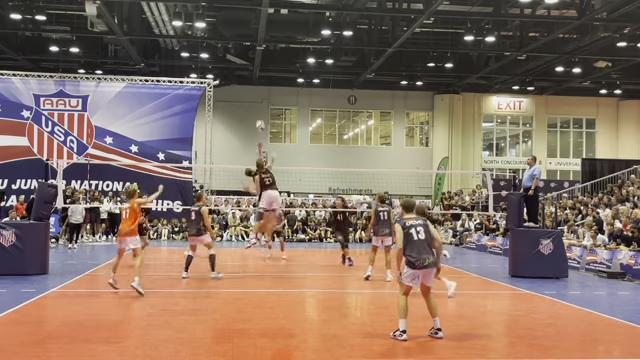attacco: (246, 151, 284, 257)
